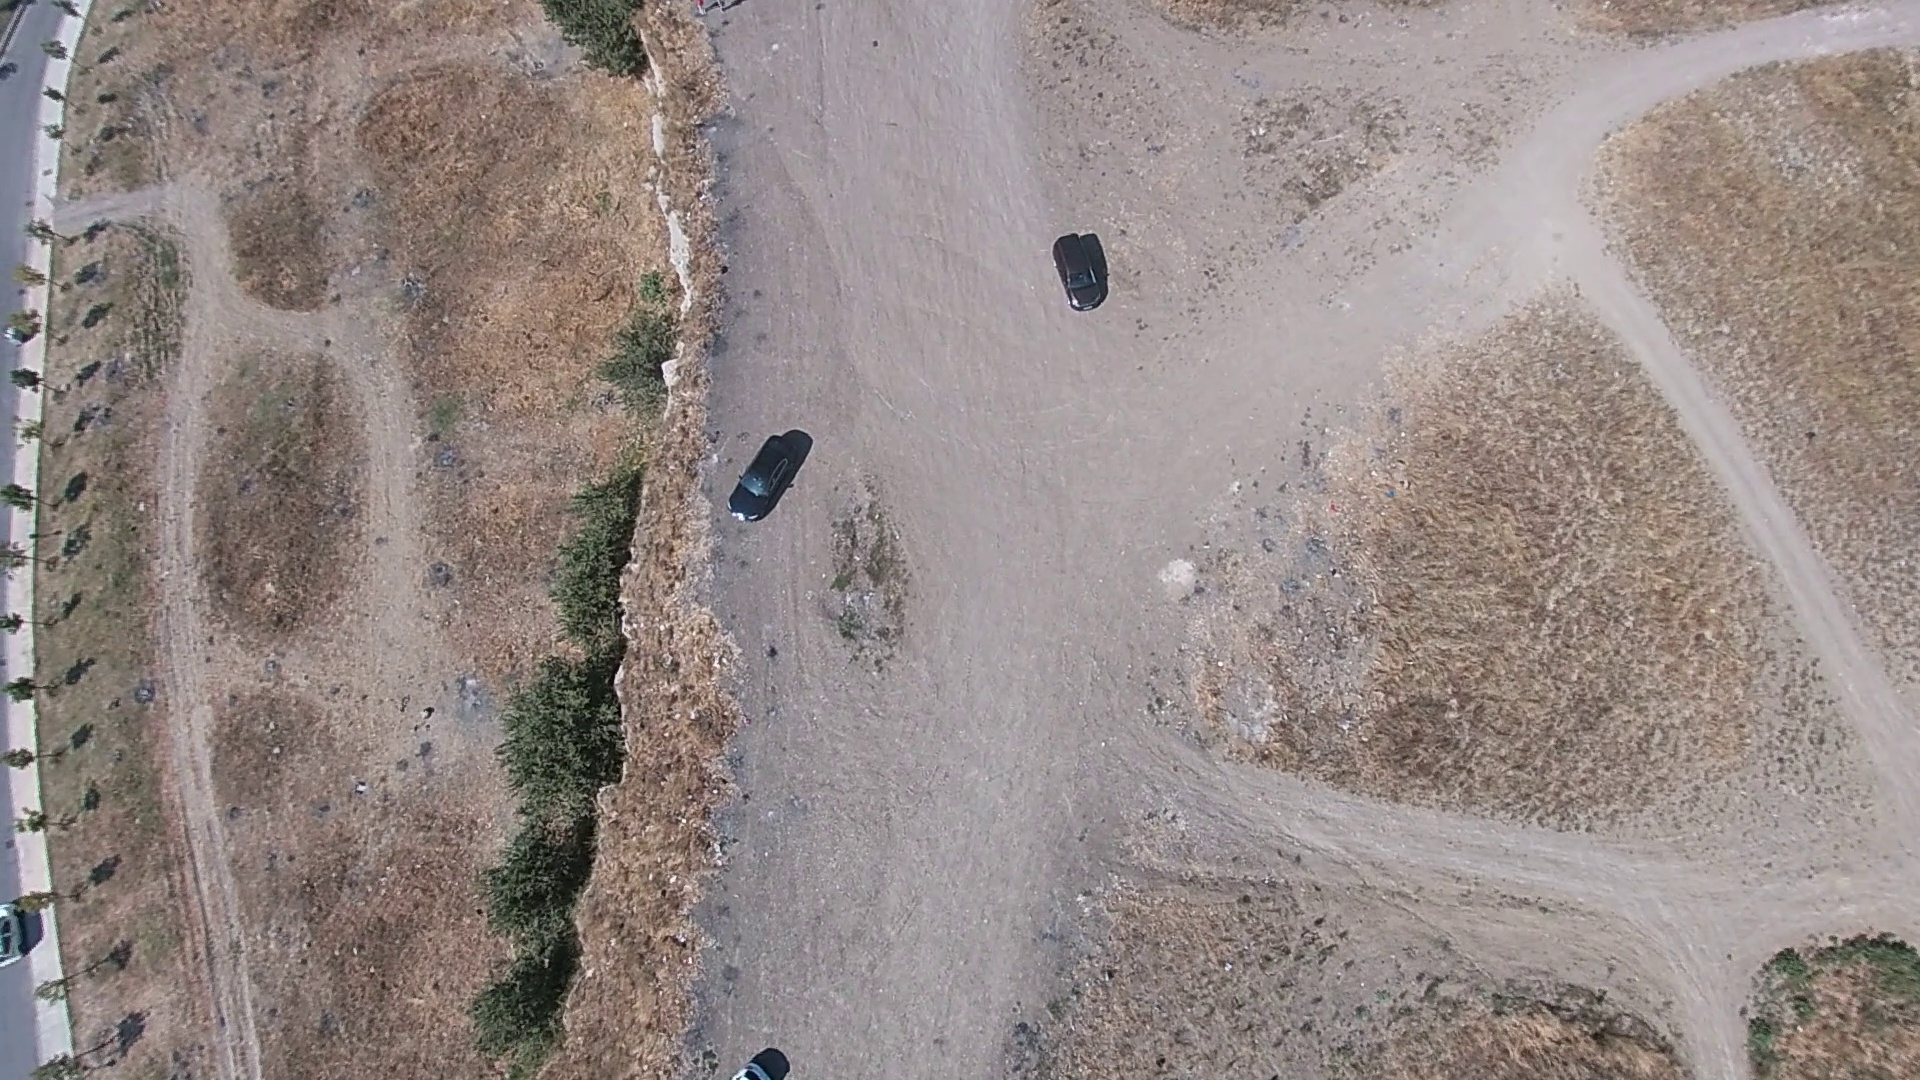arac: (720, 426, 806, 521), (1047, 224, 1109, 304)
insan: (739, 1048, 789, 1080)
